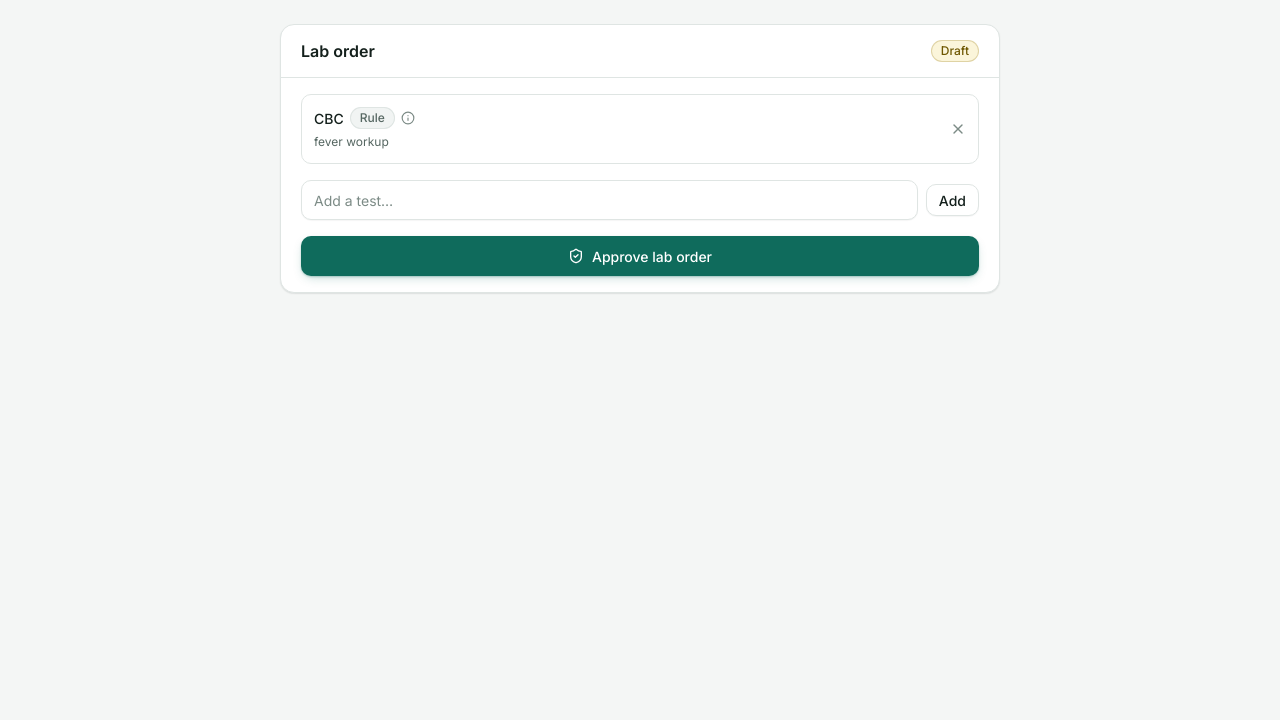
LabOrderApprovalContainer › approves a draft lab order with captcha and shows the locked state
Expected: the text "CBC" is shown, [314,108,344,128]
Click the button "Approve lab order" at [640, 256], box [301,236,979,276]
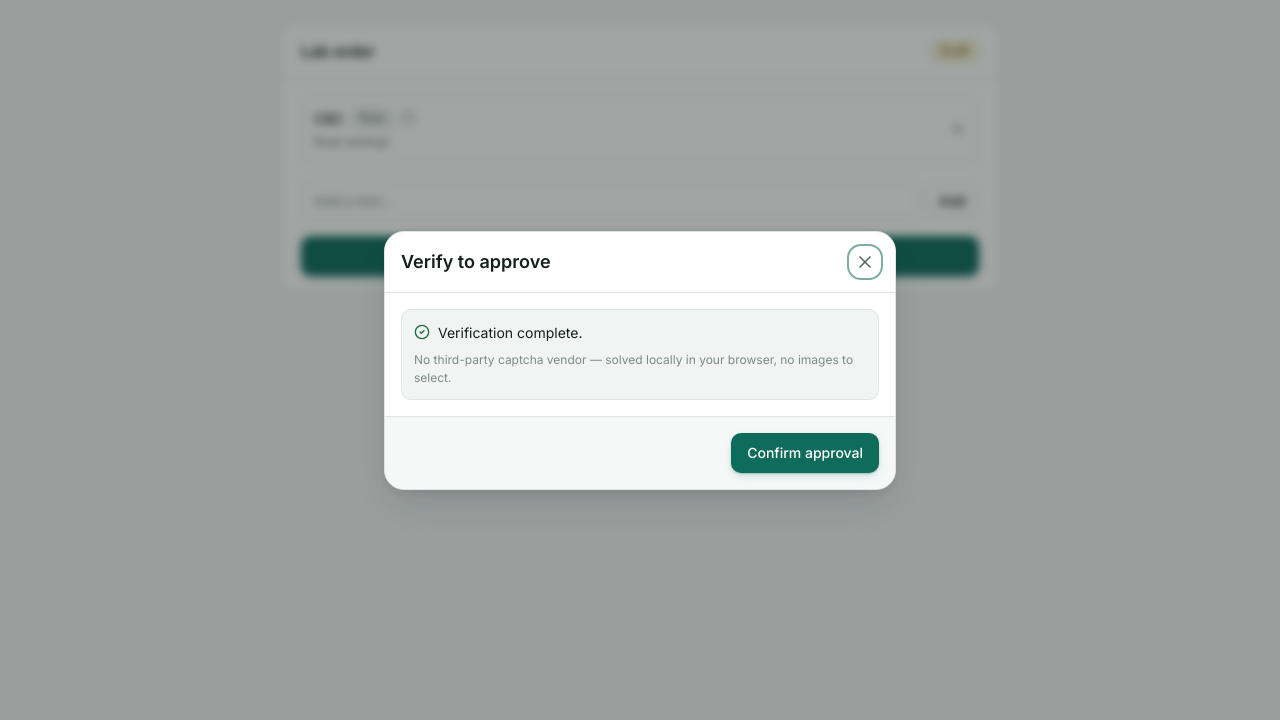
Now the text "Verification complete." is shown, box [438,322,582,342]
Click the button "Confirm approval" at [805, 452], box [731,432,879,472]
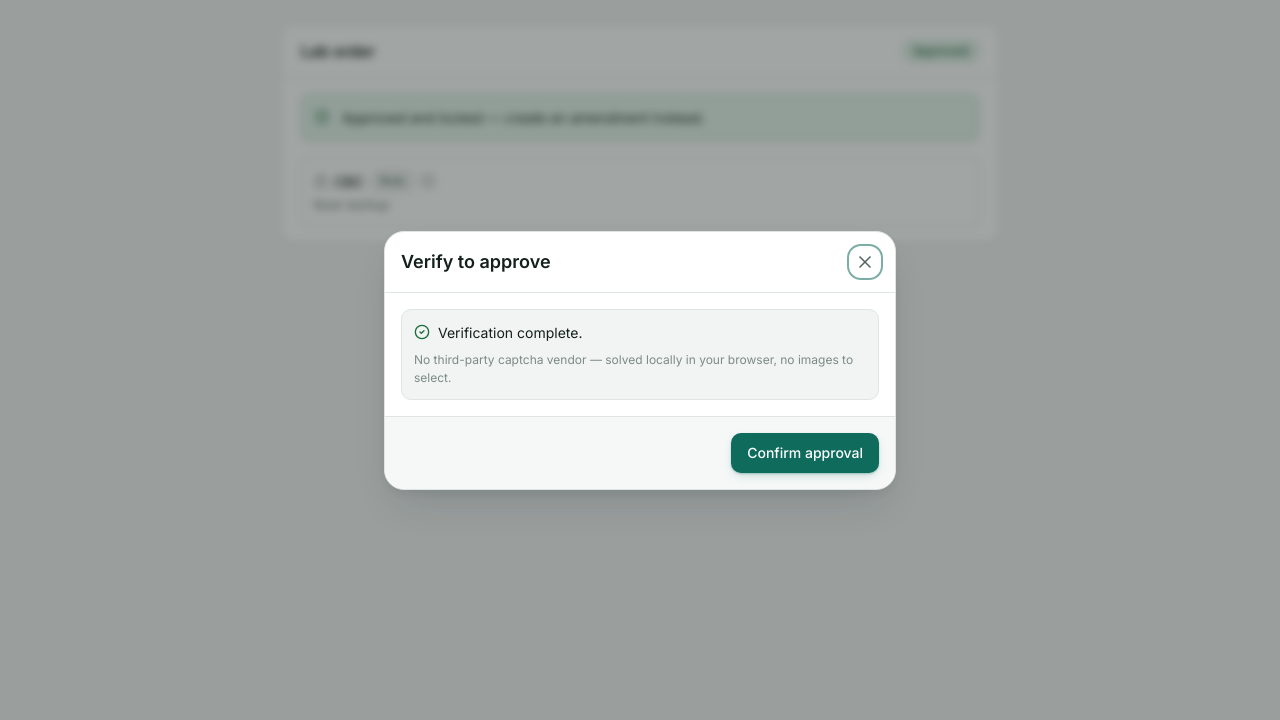
Now the text "Approved and locked — create an amendment instead." is shown, box [342,107,705,128]
